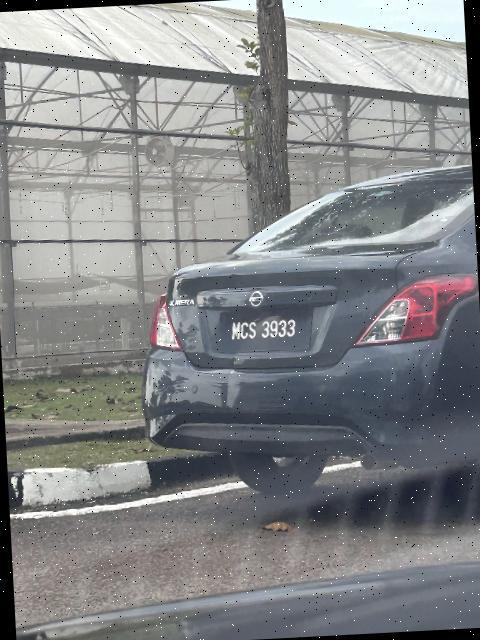License_Plate: (217, 308, 315, 356)
MCS3933: (217, 308, 315, 356)
